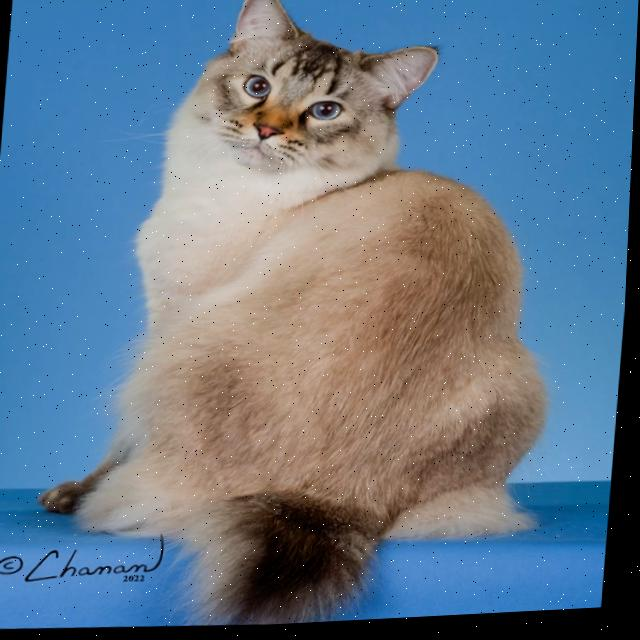American Bobtail: (26, 0, 589, 638)
